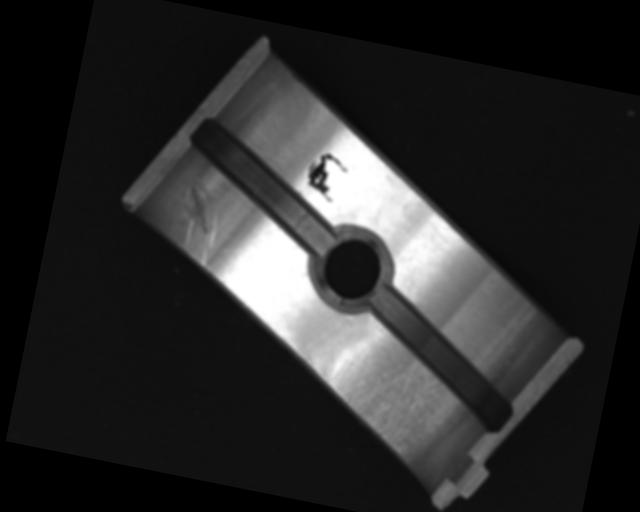blot: (300, 149, 351, 211)
gap: (349, 283, 531, 435), (173, 116, 353, 257)
hole: (301, 219, 401, 318)
nick: (166, 174, 225, 271)
scratch: (290, 339, 469, 471)
